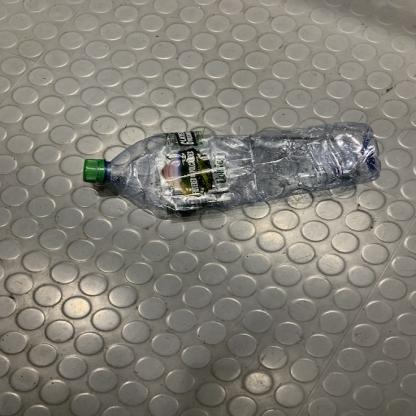trash: (81, 118, 383, 212)
